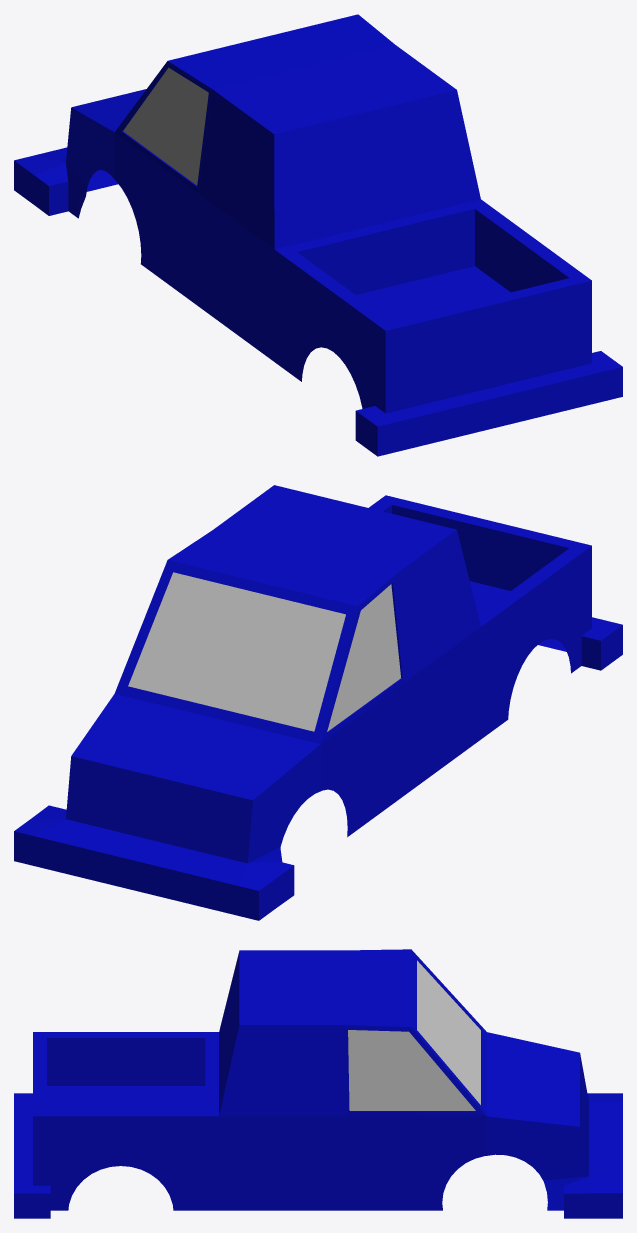
File: CAR.obj
3 views of the same model, one above another, from view 1: azimuth 30°, elevation 25°; view 2: azimuth 150°, elevation 25°; view 3: azimuth 270°, elevation 25° (orthographic). The views are drawn at different scales.
Parts seen in each view (by area): view 1: Cube; view 2: Cube; view 3: Cube.
Part boxes in pixels (x1,y1,x2,y2): Cube: (14,14,622,456); Cube: (14,485,622,920); Cube: (14,949,622,1218).
Size of the model in its own units: 2.38 by 2 by 6.11.
